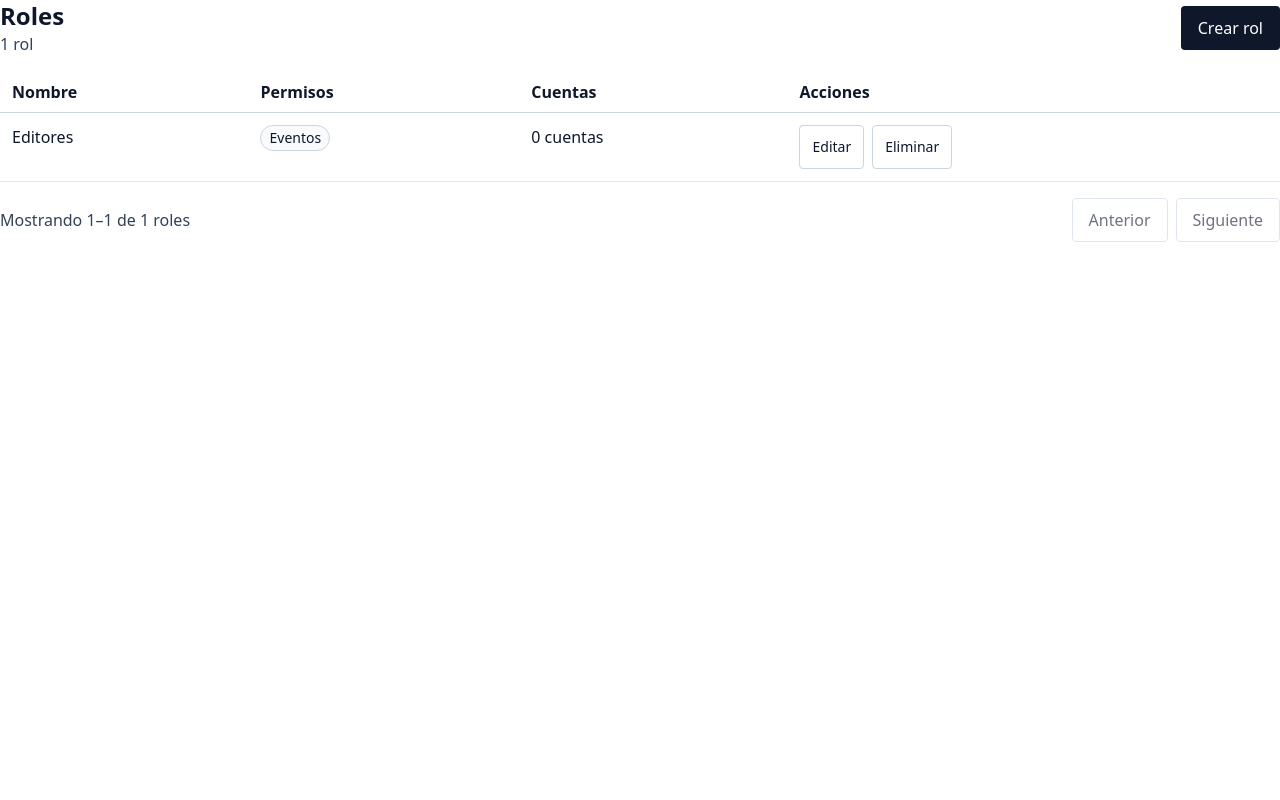
Scenario: RoleForm · crear › crea un rol con dos permisos, avisa "Rol creado." y refresca el listado
The width and height of the screenshot is (1280, 800).
Check: the table is shown, box [0, 72, 1279, 182]
Click the button "Crear rol" at (1230, 28), box [1181, 6, 1279, 50]
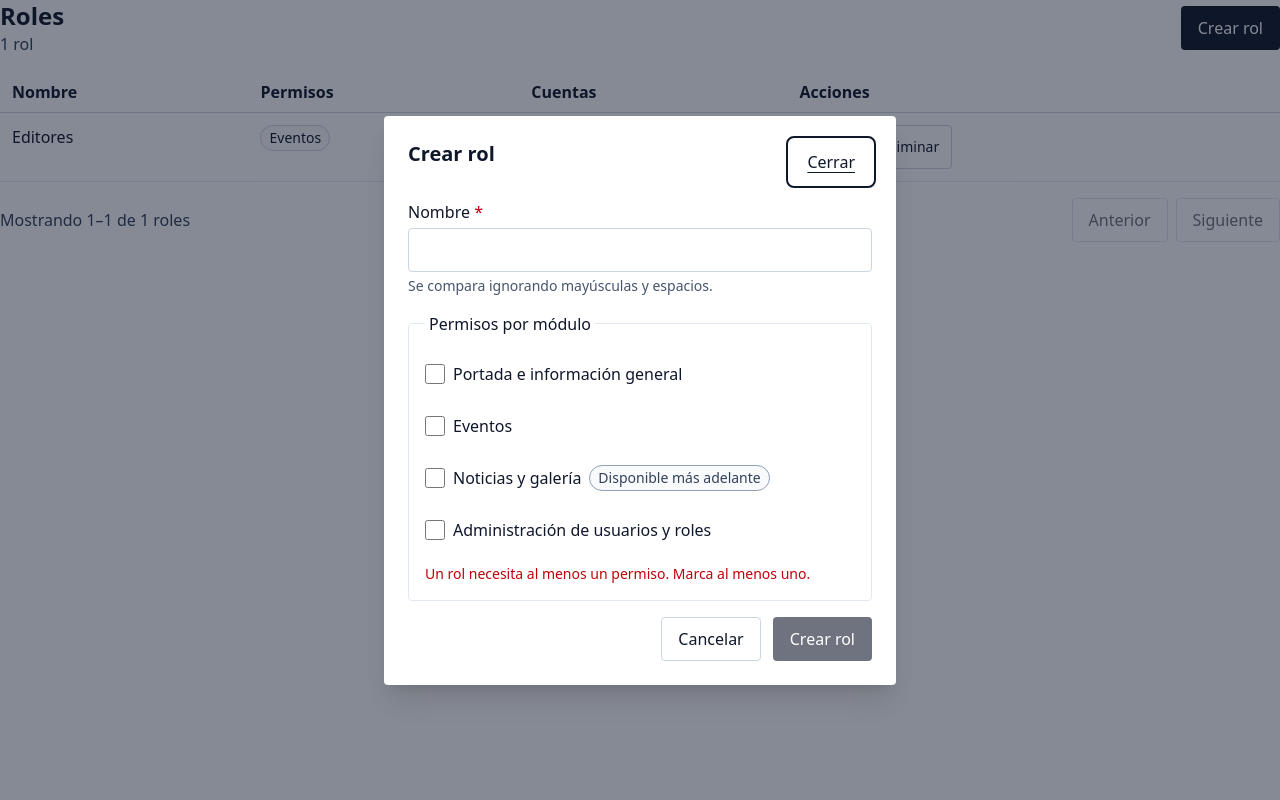
Type "Editores" into the field labelled "Nombre *" at (640, 250), box [408, 228, 872, 272]
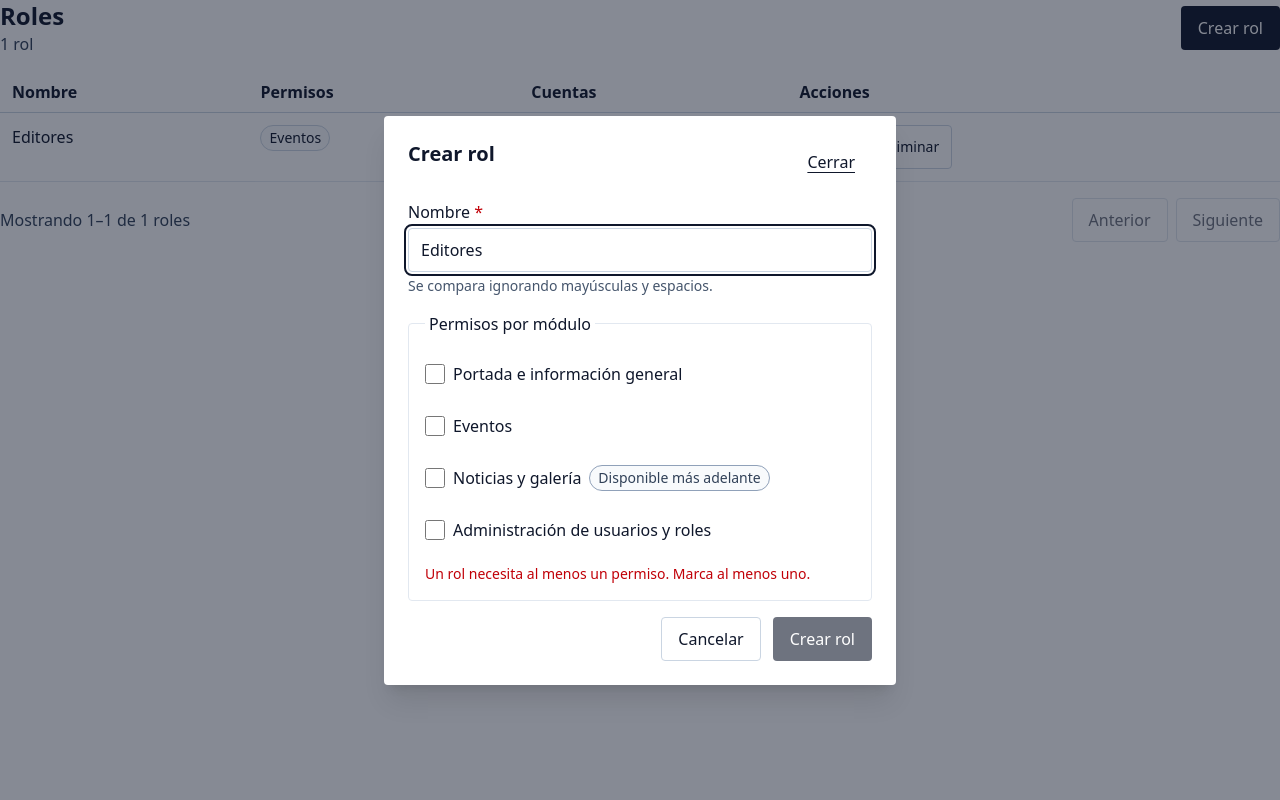
Click the checkbox labelled "Eventos" at (435, 426), box [425, 416, 445, 436]
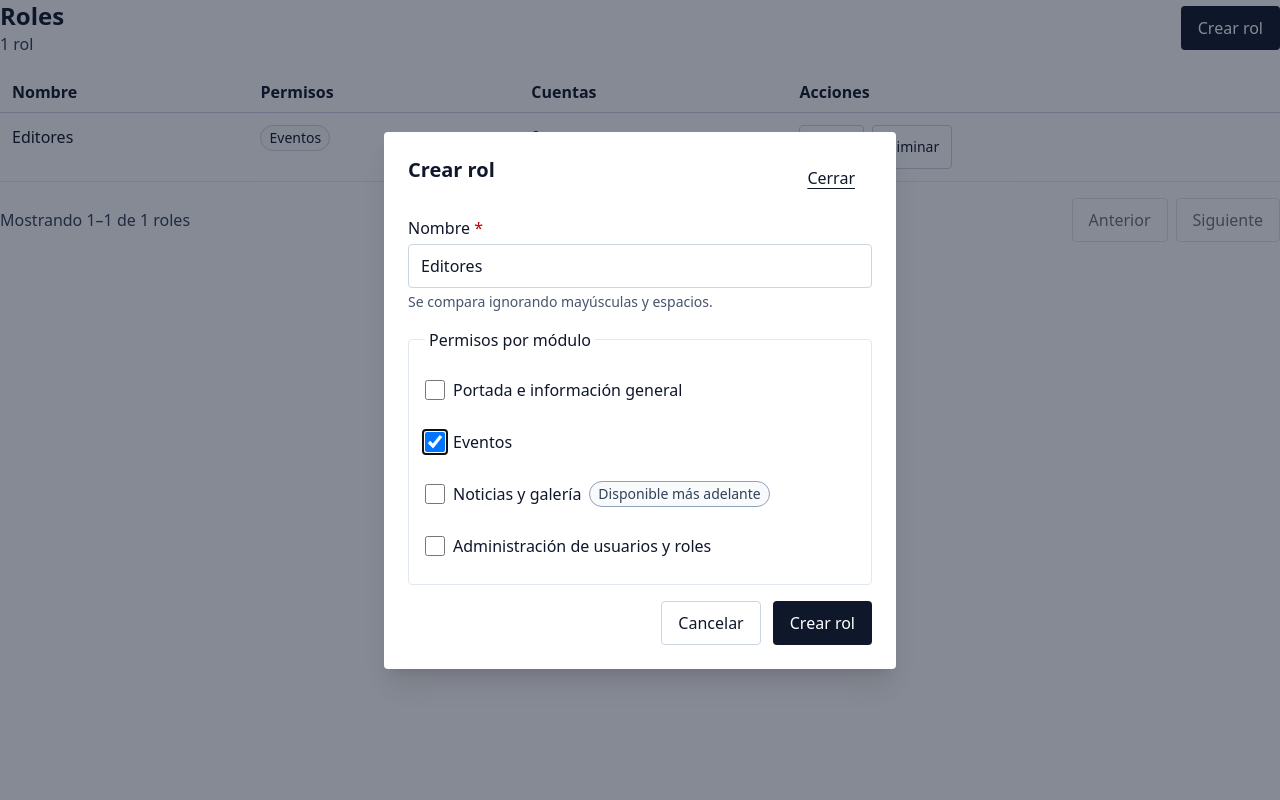
Click the checkbox labelled "Noticias y galería" at (435, 494), box [425, 484, 445, 504]
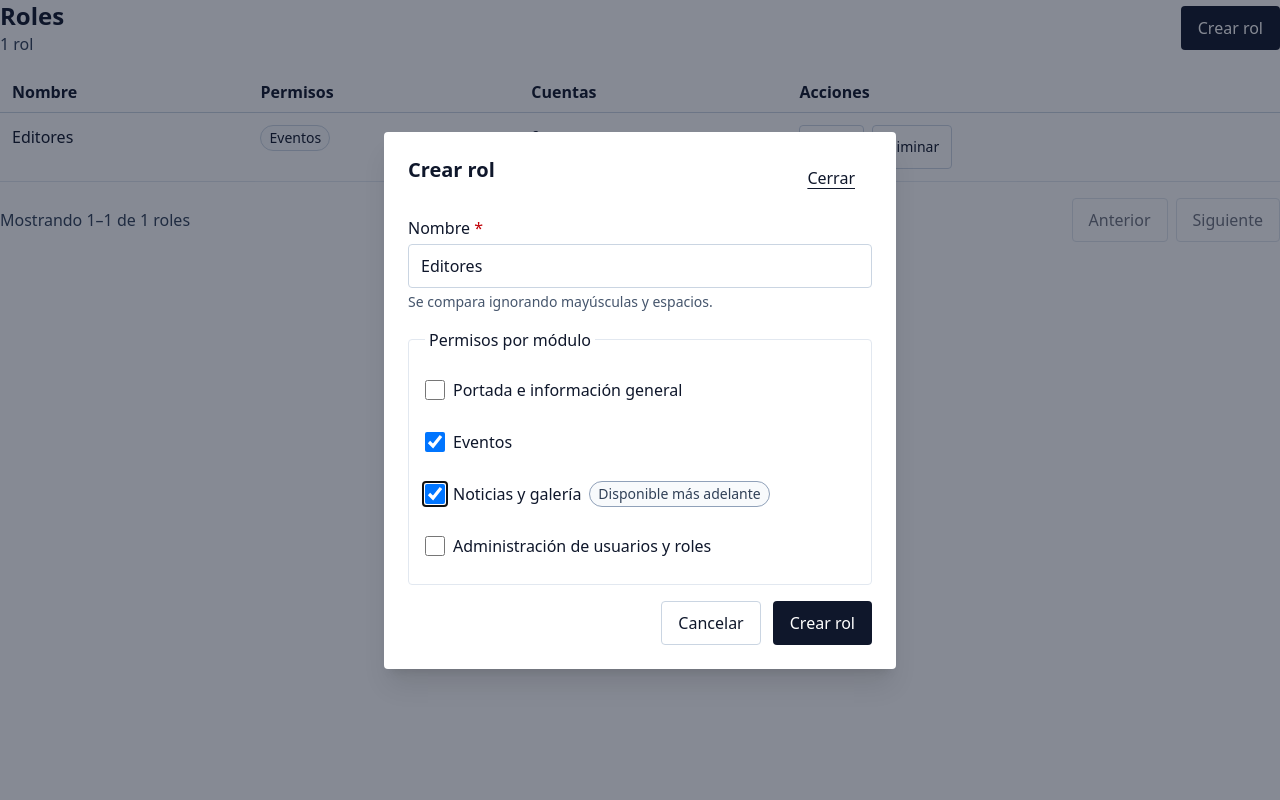
Click the button "Crear rol" at (822, 622), box [773, 600, 872, 644]
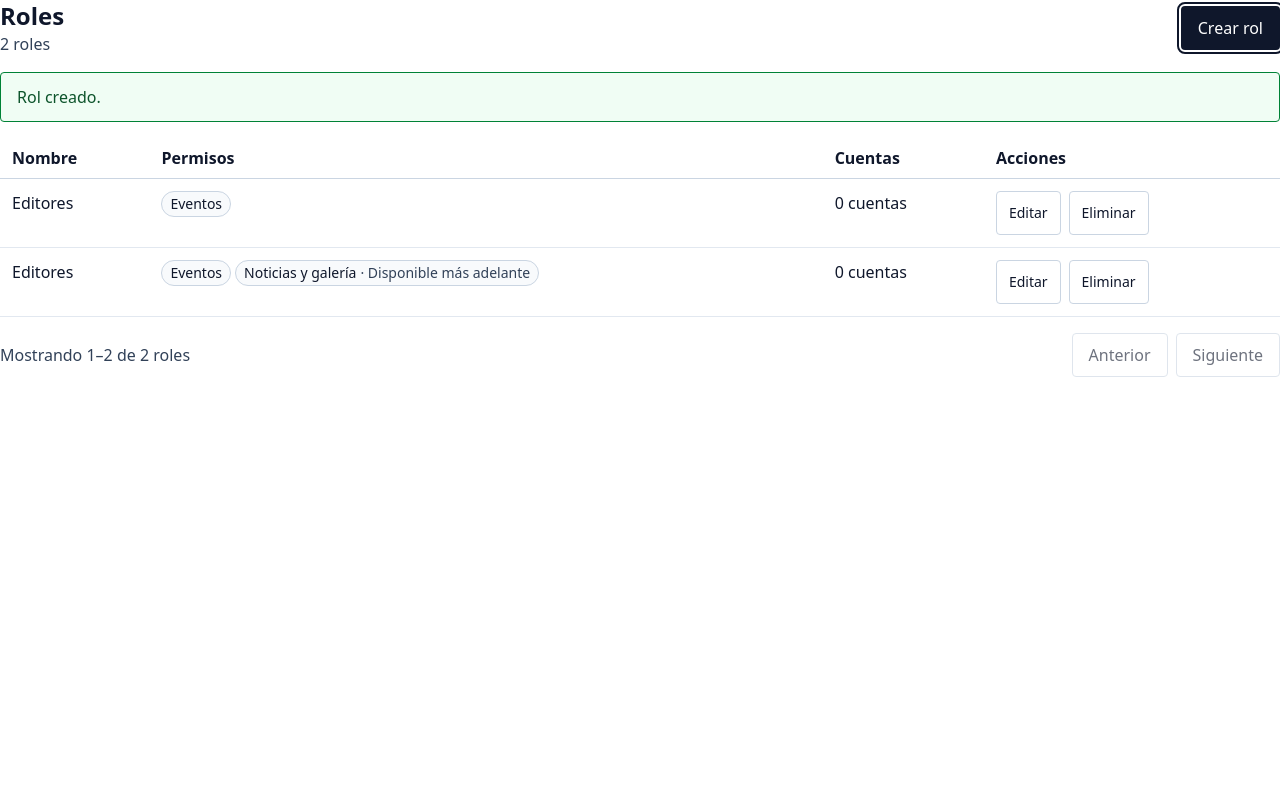
Check: the text "Rol creado." is shown, box [0, 72, 1279, 122]
